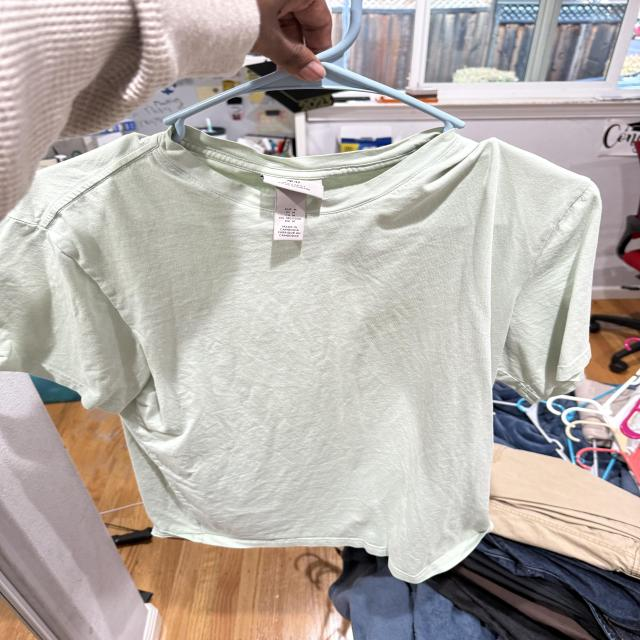back_tag: (256, 168, 341, 245)
